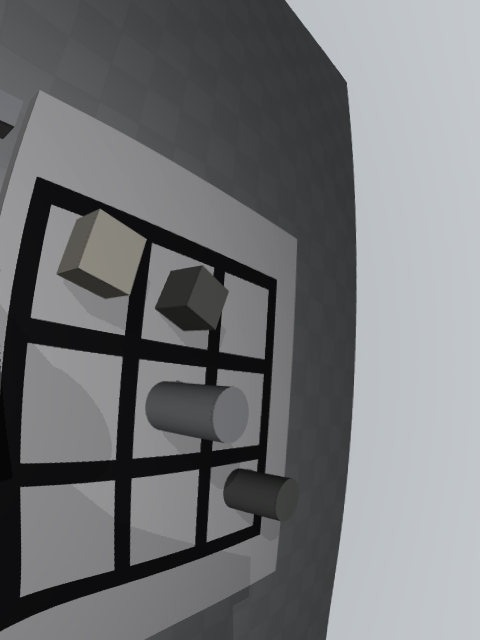can: (145, 381, 249, 444)
cube: (155, 265, 229, 331)
cylinder: (223, 469, 299, 521)
foam: (56, 208, 147, 298)
